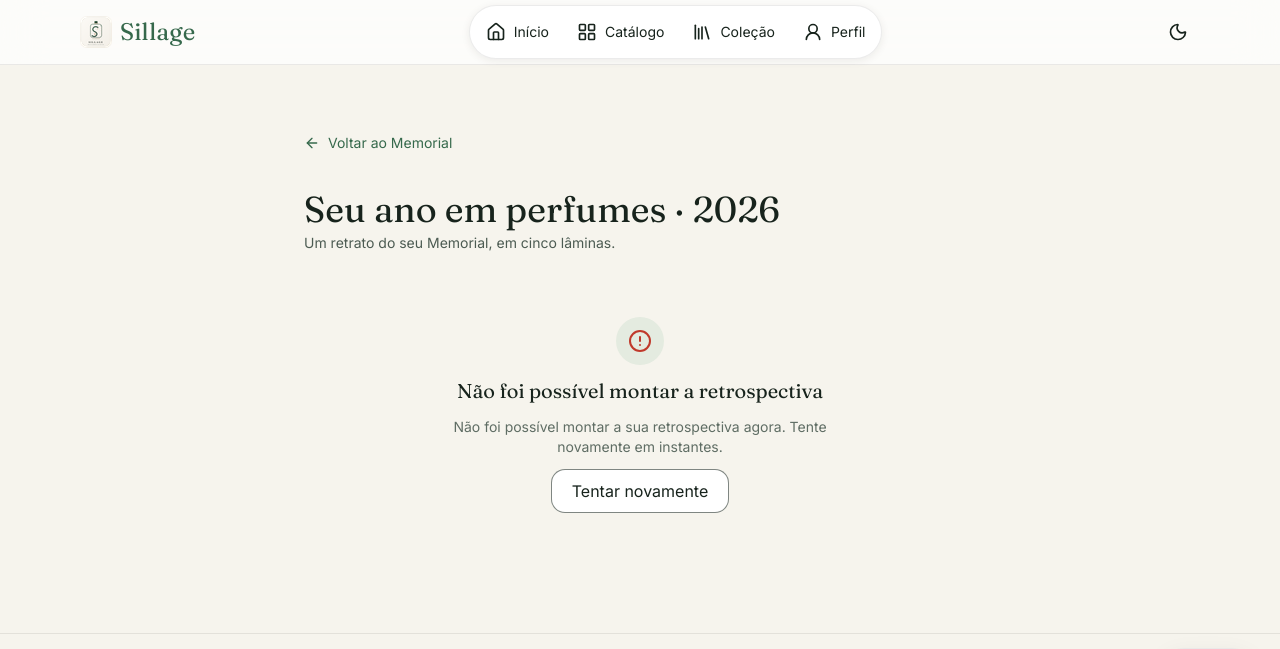
Test case: RecapPage (Fase 23) › falha mostra erro com "Tentar novamente", sem texto técnico, e refaz a consulta
Expected: the heading "Não foi possível montar a retrospectiva" is shown, x1=457 y1=377 x2=823 y2=405
Step 1. Click the button "Tentar novamente" → [640, 491], box x1=551 y1=469 x2=729 y2=513
(page scrolled)
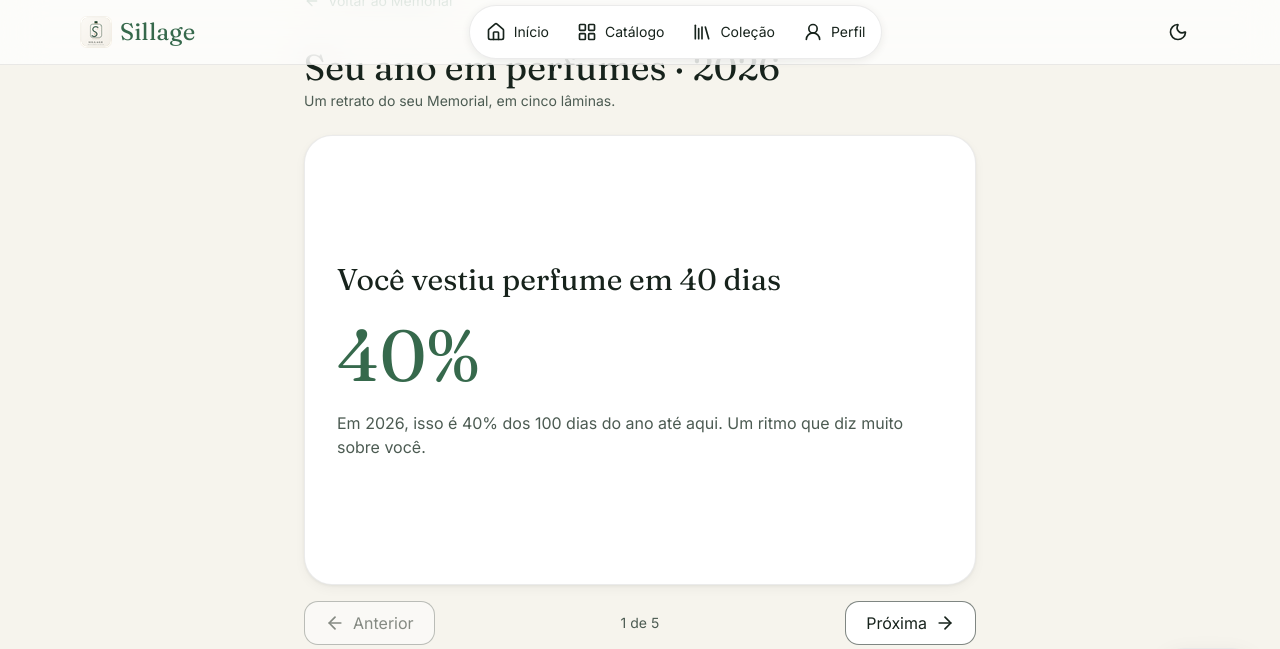
Now the element named "Lâmina 1 de 5" is shown, box x1=304 y1=135 x2=976 y2=585
